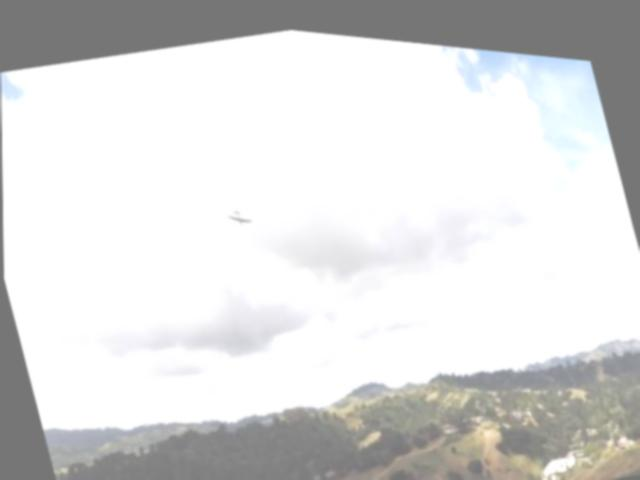uav: (222, 196, 254, 228)
